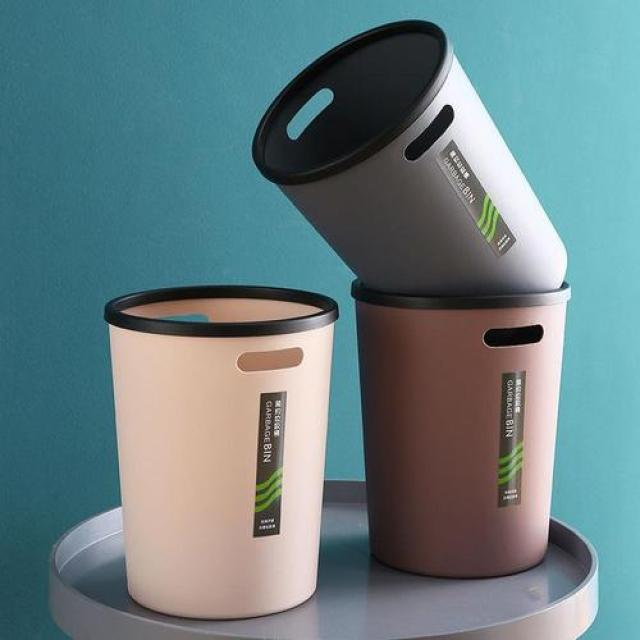dustbin: (246, 13, 571, 297), (103, 280, 346, 625), (348, 270, 574, 586)
